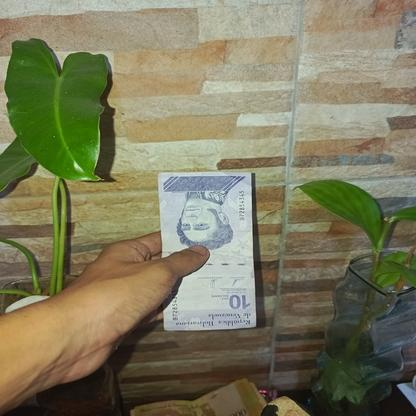ten-front-vef: (154, 172, 258, 330)
